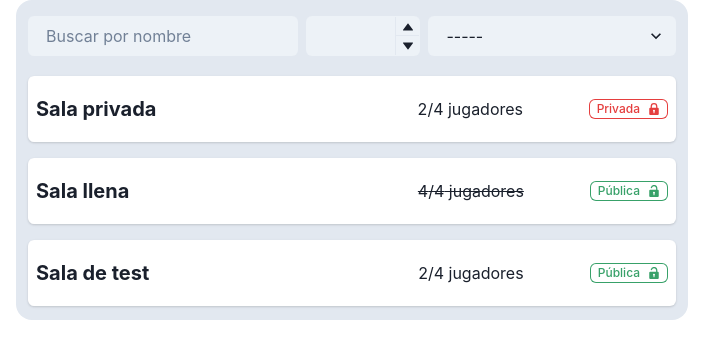
RoomList › Filtra las salas por nombre
Type "test" into the field with placeholder "Buscar por nombre".
click(163, 36); type("test")  # box [28, 16, 298, 56]
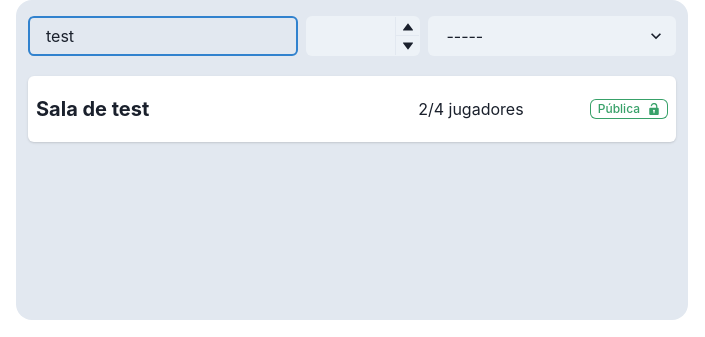
Expected: the heading "Sala de test" is shown, [36, 97, 149, 121]
Expected: the heading "Sala llena" is gone
